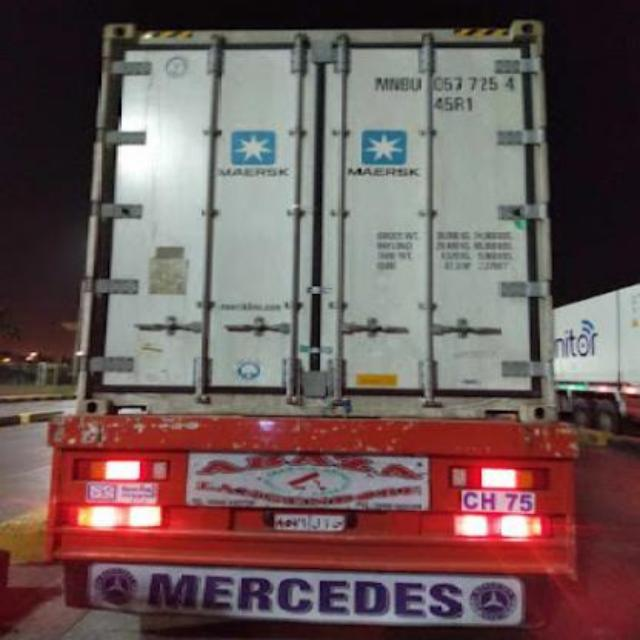0: (432, 77, 444, 93)
2: (478, 76, 488, 92)
4: (504, 75, 516, 91)
5: (488, 75, 500, 93), (442, 77, 454, 93)
7: (466, 73, 479, 93), (454, 75, 464, 91)
B: (400, 76, 410, 92)
M: (376, 77, 389, 93)
N: (390, 76, 402, 92)
U: (412, 78, 420, 92)
